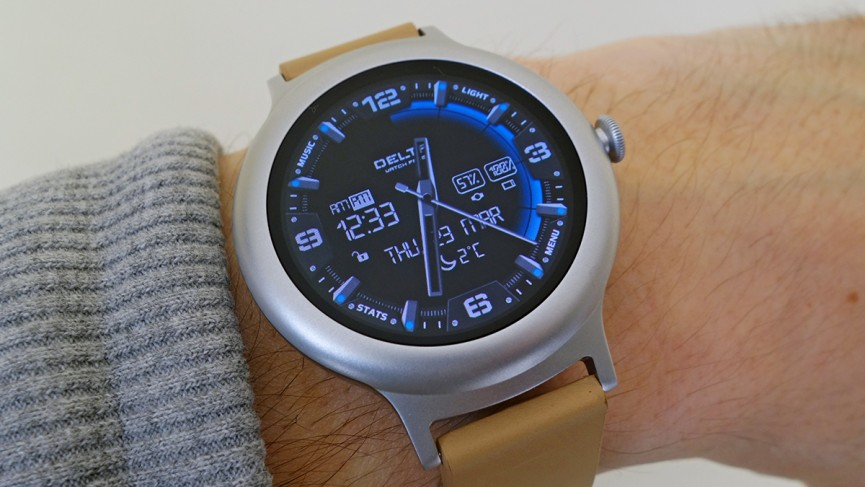clock: (233, 36, 620, 395)
